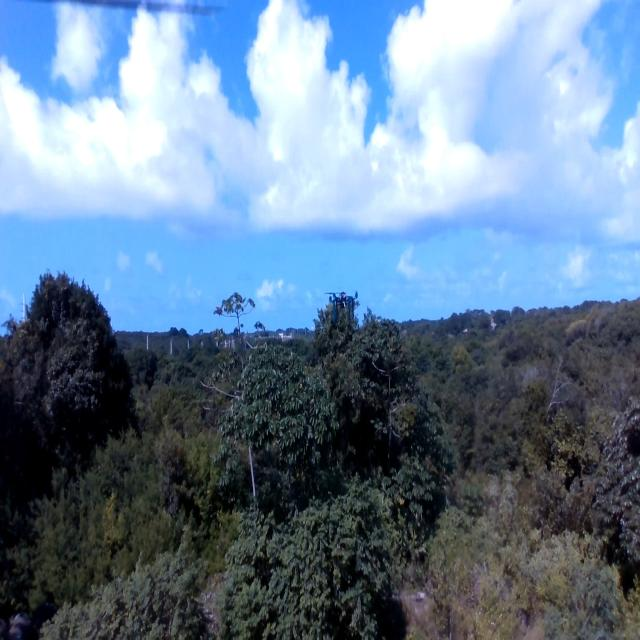-uav-: (326, 289, 361, 330)
